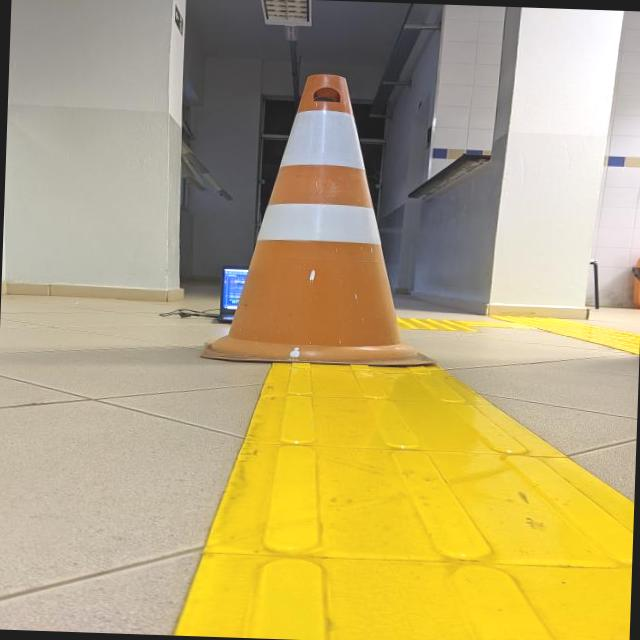Cone: (193, 65, 455, 372)
